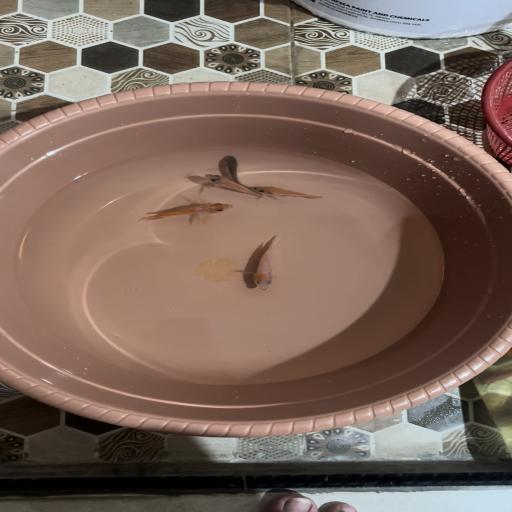nila: (239, 237, 285, 293), (136, 201, 234, 226), (200, 173, 260, 199), (253, 183, 327, 203), (222, 156, 254, 186)
